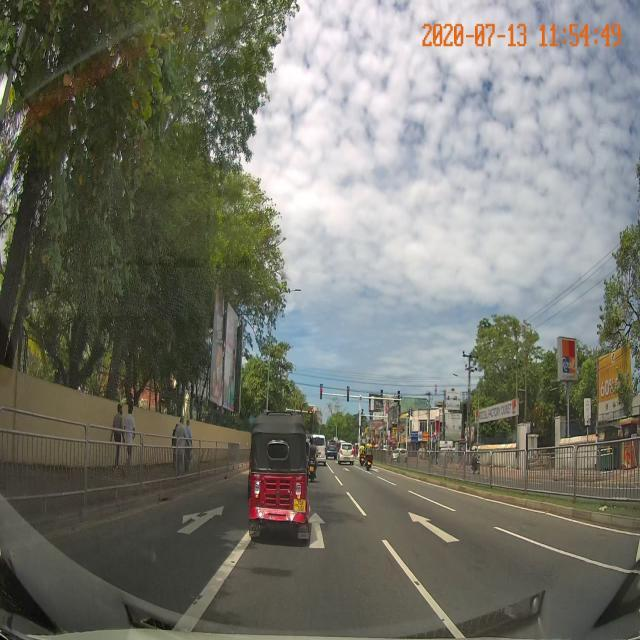forward: (359, 494, 515, 580), (287, 501, 417, 584)
